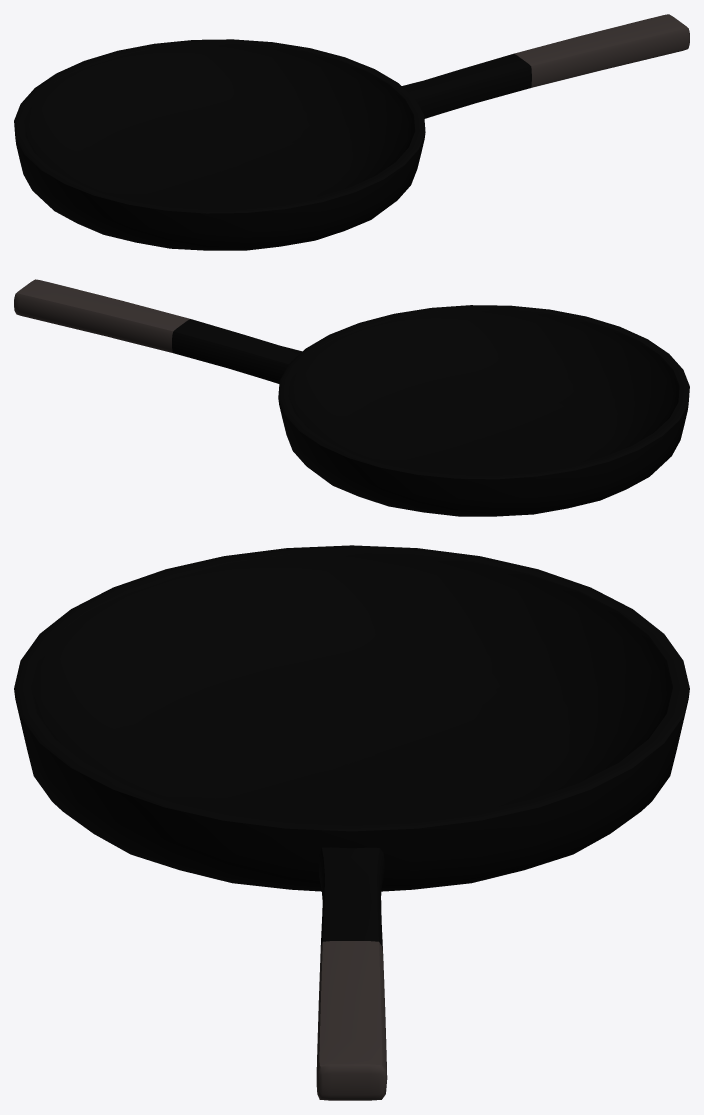
File: HP_pan_2.glb
3 views of the same model, one above another, from view 1: azimuth 30°, elevation 25°; view 2: azimuth 150°, elevation 25°; view 3: azimuth 270°, elevation 25° (orthographic). The views are drawn at different scales.
Visible parts, largest first — view 1: HP_pan_2.001; view 2: HP_pan_2.001; view 3: HP_pan_2.001.
Part boxes in pixels (x1=…): HP_pan_2.001: x1=14, y1=14, x2=689, y2=250; HP_pan_2.001: x1=14, y1=279, x2=689, y2=516; HP_pan_2.001: x1=14, y1=545, x2=689, y2=1100.
Bounding box in the file's own units: 0.4438 × 0.0312 × 0.2478.
Materials: 1 (1 with a texture image).
